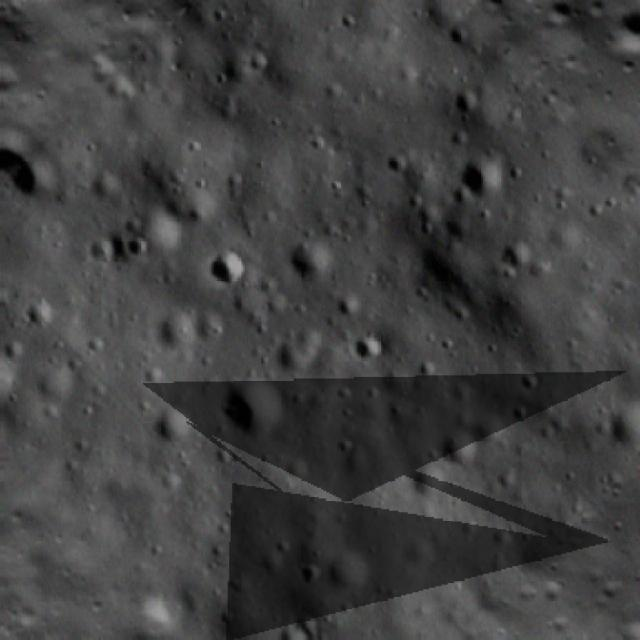crater: (204, 360, 302, 458), (264, 214, 348, 297), (442, 135, 521, 213), (65, 214, 141, 288), (0, 142, 66, 210), (194, 241, 260, 307), (429, 414, 493, 480), (589, 390, 640, 472), (478, 225, 537, 284), (136, 580, 184, 631), (0, 342, 26, 426), (342, 328, 388, 374), (439, 77, 484, 121)
